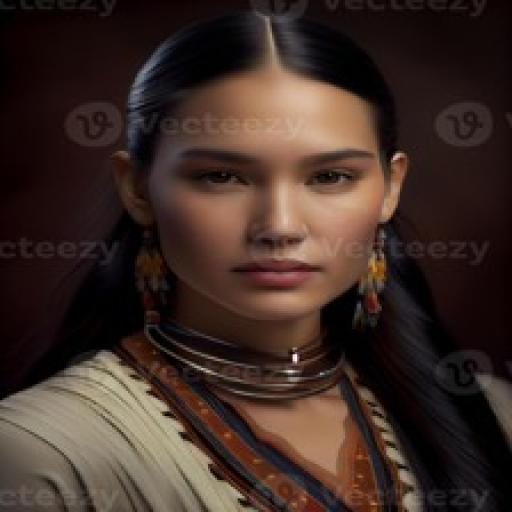human: (13, 0, 512, 486)
